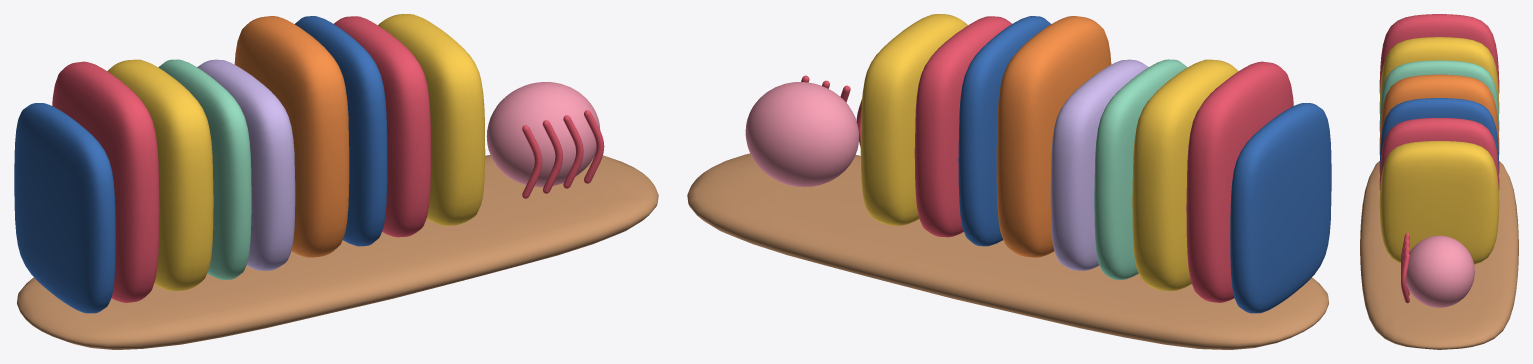
File: deco_repisa_libros.glb
3 views of the same model, side by side, from view 1: azimuth 30°, elevation 25°; view 2: azimuth 150°, elevation 25°; view 3: azimuth 270°, elevation 25° (orthographic). The views are drawn at different scales.
Visible parts, largest first — view 1: tabla repisa.001, libro repisa 0.001, libro repisa 5.001, libro repisa 1.001, libro repisa 2.001, libro repisa 8.001, libro repisa 7.001, libro repisa 4.001, libro repisa 6.001, libro repisa 3.001, cerebro.001, surco cerebro 0.001 (+3 smaller); view 2: tabla repisa.001, libro repisa 0.001, libro repisa 5.001, libro repisa 1.001, libro repisa 2.001, libro repisa 8.001, libro repisa 7.001, cerebro.001, libro repisa 4.001, libro repisa 6.001, libro repisa 3.001; view 3: tabla repisa.001, libro repisa 8.001, cerebro.001, libro repisa 2.001, libro repisa 5.001, libro repisa 1.001, libro repisa 7.001, libro repisa 6.001, libro repisa 3.001, surco cerebro 3.001.
Part boxes in pixels (bbox=[...]): tabla repisa.001: bbox=[17, 155, 658, 349]; libro repisa 0.001: bbox=[14, 103, 115, 313]; libro repisa 5.001: bbox=[234, 16, 349, 257]; libro repisa 1.001: bbox=[52, 61, 159, 302]; libro repisa 2.001: bbox=[107, 59, 213, 291]; libro repisa 8.001: bbox=[378, 14, 485, 225]; libro repisa 7.001: bbox=[334, 16, 430, 237]; libro repisa 4.001: bbox=[197, 59, 295, 270]; libro repisa 6.001: bbox=[295, 16, 387, 246]; libro repisa 3.001: bbox=[158, 59, 251, 279]; cerebro.001: bbox=[486, 82, 600, 187]; surco cerebro 0.001: bbox=[522, 125, 542, 198]; tabla repisa.001: bbox=[687, 153, 1328, 349]; libro repisa 0.001: bbox=[1230, 103, 1331, 313]; libro repisa 5.001: bbox=[996, 16, 1111, 257]; libro repisa 1.001: bbox=[1186, 61, 1293, 302]; libro repisa 2.001: bbox=[1132, 59, 1238, 291]; libro repisa 8.001: bbox=[860, 14, 967, 225]; libro repisa 7.001: bbox=[914, 16, 1011, 237]; cerebro.001: bbox=[745, 82, 859, 187]; libro repisa 4.001: bbox=[1050, 59, 1148, 270]; libro repisa 6.001: bbox=[958, 16, 1050, 246]; libro repisa 3.001: bbox=[1094, 59, 1187, 279]; tabla repisa.001: bbox=[1360, 161, 1518, 349]; libro repisa 8.001: bbox=[1379, 141, 1499, 264]; cerebro.001: bbox=[1406, 235, 1474, 307]; libro repisa 2.001: bbox=[1379, 37, 1499, 113]; libro repisa 5.001: bbox=[1379, 74, 1499, 154]; libro repisa 1.001: bbox=[1379, 14, 1499, 93]; libro repisa 7.001: bbox=[1379, 118, 1499, 190]; libro repisa 6.001: bbox=[1379, 98, 1499, 172]; libro repisa 3.001: bbox=[1379, 60, 1499, 131]; surco cerebro 3.001: bbox=[1401, 253, 1409, 303].
Size of the model in its own units: 0.5946 by 0.2292 by 0.1982.
